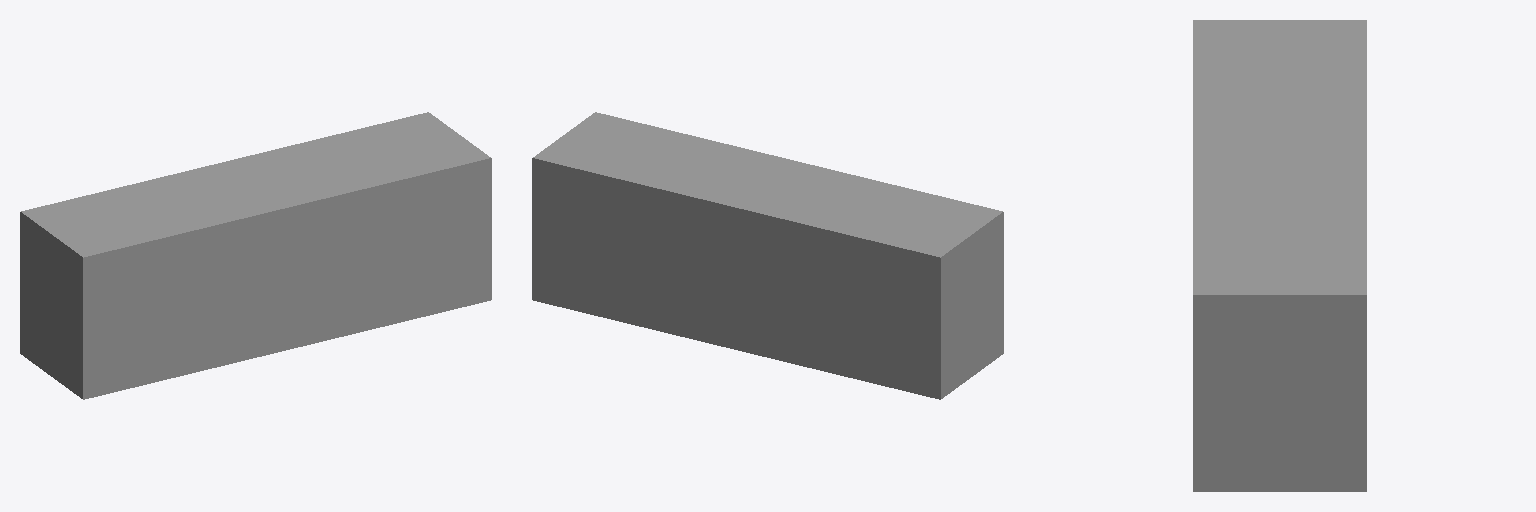
URDF robot description (Furniture 2):
<?xml version="1.0"?>
<robot name="Furniture 2">
    <!-- Colors -->
    <material name="red">
        <color rgba="0.663 0.663 0.663 1"/>
    </material>

    <!-- Furniture -->
    <link name="base_link">
        <visual>
            <geometry>
                <box size="3 0.8 1" />
                <origin rpy="0 0 0" xyz="0 0 0"/>
            </geometry>
            <material name="red"/>
        </visual>

        <collision>
             <geometry>
                <box size="3 0.8 1" />
                <origin rpy="0 0 0" xyz="0 0 0"/>
            </geometry>
        </collision>
        <inertial>
            <mass value="0"/>
            <inertia ixx="0" ixy="0" ixz="0" iyy="0" iyz="0" izz="0"/>
        </inertial>
    </link>
</robot>

--- What the picture shows (computed from the rendered views, not written in the file) ---
3 views of the same robot in one strip: view 1: azimuth 30°, elevation 25°; view 2: azimuth 150°, elevation 25°; view 3: azimuth 270°, elevation 25° (orthographic).
Robot: Furniture 2 — 1 links, 0 joints (none); root link base_link; default pose: all joints at 0.
Links seen in each view (by area): view 1: base_link; view 2: base_link; view 3: base_link.
Boxes of the visible links, x1,y1,x2,y2 form: base_link: (20, 112, 491, 399); base_link: (532, 112, 1003, 399); base_link: (1193, 20, 1366, 491).
Bounding box of the posed robot: 3 × 0.8 × 1 m (x, y, z).
Geometry: primitives only (box / cylinder / sphere), no mesh files.